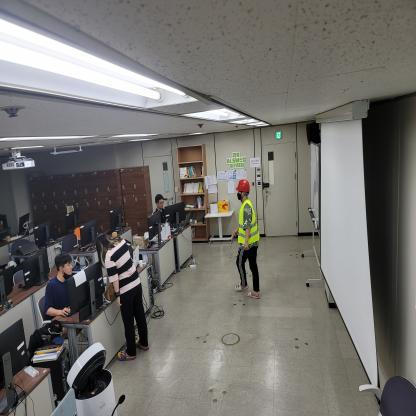Standing: (97, 233, 148, 357), (233, 179, 259, 297)
safety_equipment: (238, 199, 260, 245), (234, 179, 252, 193)
